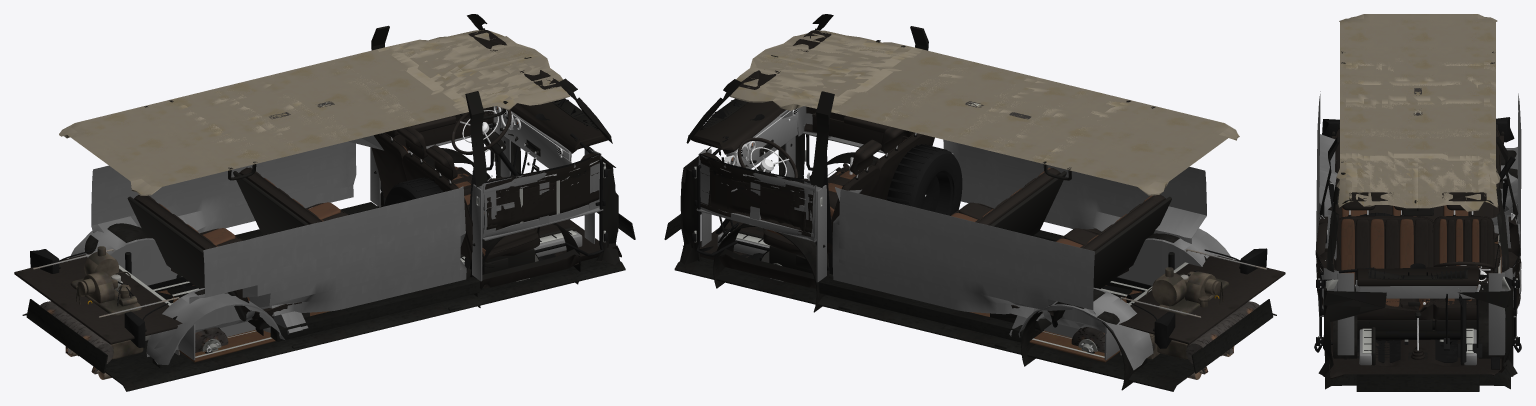
File: furgao-classico_completo.glb
3 renders of one model, left to right at view 1: azimuth 30°, elevation 25°; view 2: azimuth 150°, elevation 25°; view 3: azimuth 270°, elevation 25°, orthographic. The views are drawn at different scales.
Parts seen in each view (by area): view 1: interior_carga, interior_forro_teto, under_assoalho, under_saias, interior_banco_passageiros_2, interior_painel, door_card_fr, interior_banco_dianteiro_dir, interior_banco_passageiros_1, engine_motor, door_card_fr_chapa, interior_carpete (+16 smaller); view 2: interior_carga, interior_forro_teto, under_assoalho, under_saias, door_card_fl, interior_banco_passageiros_2, interior_painel, interior_portamalas_estepe, interior_banco_passageiros_1, engine_motor, interior_banco_dianteiro_esq, door_card_fl_chapa (+17 smaller); view 3: interior_forro_teto, interior_banco_dianteiro_dir, interior_banco_dianteiro_esq, interior_painel, interior_carpete, interior_carga, under_saias, interior_acabamento_pe_dir, interior_acabamento_colunas, interior_banco_passageiros_1, jamb_fl_colunas, interior_acabamento_pe_esq (+23 smaller).
Part boxes in pixels (x1,y1,x2,y2): interior_carga: (14, 112, 466, 364); interior_forro_teto: (59, 30, 570, 195); under_assoalho: (22, 257, 625, 391); under_saias: (26, 202, 635, 373); interior_banco_passageiros_2: (127, 195, 309, 329); interior_painel: (493, 98, 607, 171); door_card_fr: (484, 153, 600, 230); interior_banco_dianteiro_dir: (396, 126, 539, 274); interior_banco_passageiros_1: (233, 167, 348, 234); engine_motor: (67, 246, 149, 379); door_card_fr_chapa: (478, 150, 605, 240); interior_carpete: (378, 175, 621, 289); interior_carga: (832, 112, 1285, 370); interior_forro_teto: (729, 30, 1239, 195); under_assoalho: (674, 257, 1276, 391); under_saias: (664, 212, 1273, 373); door_card_fl: (699, 152, 813, 236); interior_banco_passageiros_2: (990, 194, 1171, 331); interior_painel: (691, 98, 798, 168); interior_portamalas_estepe: (887, 144, 962, 215); interior_banco_passageiros_1: (951, 167, 1066, 235); engine_motor: (1152, 267, 1232, 379); interior_banco_dianteiro_esq: (759, 139, 881, 273); door_card_fl_chapa: (696, 149, 820, 242); interior_forro_teto: (1336, 14, 1500, 211); interior_banco_dianteiro_dir: (1334, 201, 1435, 344); interior_banco_dianteiro_esq: (1432, 205, 1494, 346); interior_painel: (1355, 263, 1486, 306); interior_carpete: (1329, 318, 1506, 379); interior_carga: (1316, 88, 1521, 273); under_saias: (1330, 218, 1479, 391); interior_acabamento_pe_dir: (1318, 285, 1386, 376); interior_acabamento_colunas: (1319, 136, 1518, 272); interior_banco_passageiros_1: (1335, 170, 1500, 273); jamb_fl_colunas: (1488, 220, 1506, 355); interior_acabamento_pe_esq: (1458, 286, 1517, 376).
Size of what is drawn, in the model's own units: 4.35 by 1.74 by 1.62.
44 materials, 44 textured.
